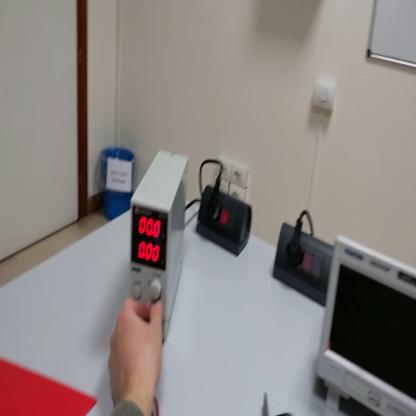hand: (109, 296, 165, 405)
oscilloscope: (317, 233, 416, 414)
power supply: (127, 155, 187, 347)
register: (2, 359, 99, 413)
socket: (272, 221, 334, 307), (197, 185, 253, 260)
